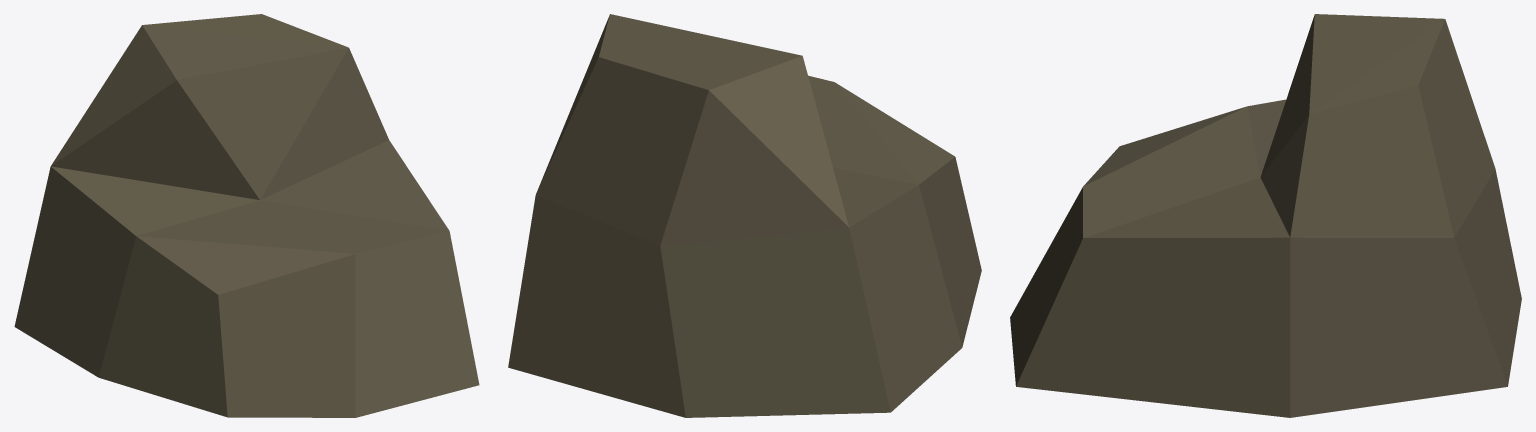
The model's file is FlatRock-B05.fbx.
3 views of the same model, side by side, from view 1: azimuth 30°, elevation 25°; view 2: azimuth 150°, elevation 25°; view 3: azimuth 270°, elevation 25° (orthographic). The views are drawn at different scales.
Parts seen in each view (by area): view 1: FlatRock-B05; view 2: FlatRock-B05; view 3: FlatRock-B05.
Part boxes in pixels (box(x1,y1,x2,y2)): FlatRock-B05: box(14, 14, 479, 417); FlatRock-B05: box(508, 14, 981, 417); FlatRock-B05: box(1010, 14, 1521, 417).
Size of the model in its own units: 146 by 104 by 167.
